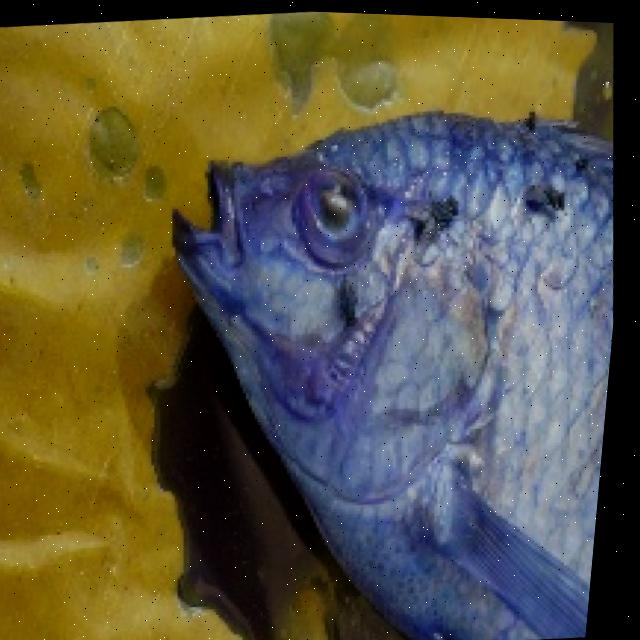Non-Fresh: (275, 147, 396, 280)
